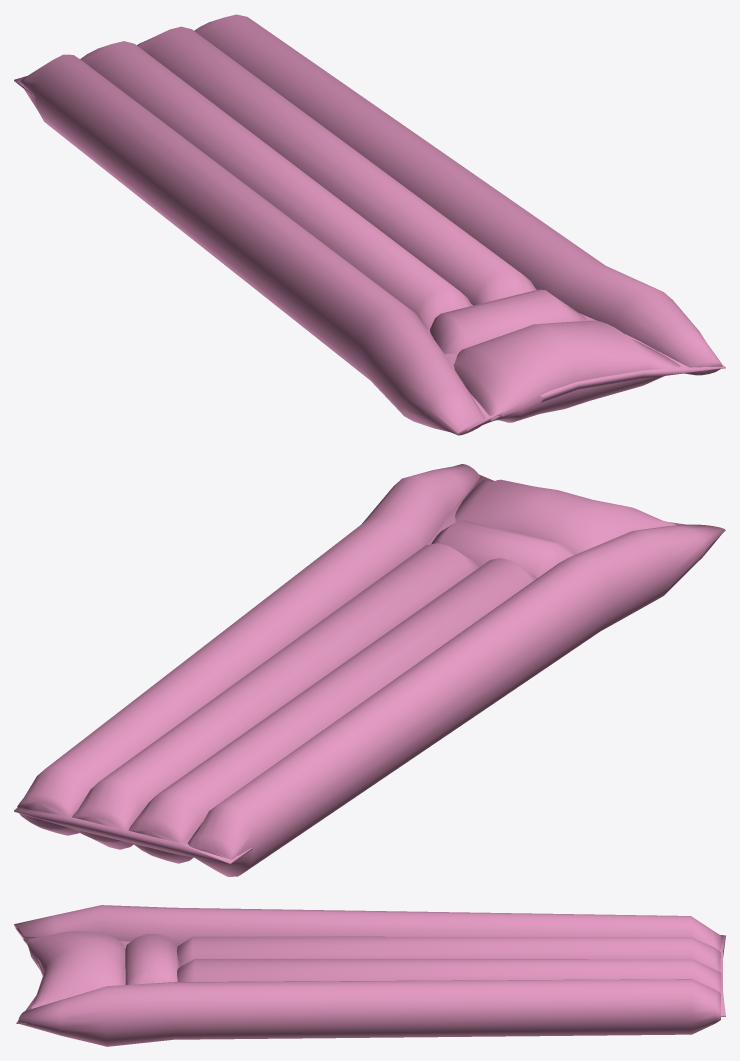
The model's file is swimming_mattress.fbx.
3 views of the same model, one above another, from view 1: azimuth 30°, elevation 25°; view 2: azimuth 150°, elevation 25°; view 3: azimuth 270°, elevation 25° (orthographic). The views are drawn at different scales.
Parts seen in each view (by area): view 1: swimming_mattress; view 2: swimming_mattress; view 3: swimming_mattress.
Boxes of the visible parts, box(x1,y1,x2,y2) form: swimming_mattress: box(14, 14, 725, 435); swimming_mattress: box(14, 464, 725, 876); swimming_mattress: box(14, 905, 725, 1046).
Size of the model in its own units: 0.6988 by 0.1857 by 2.
